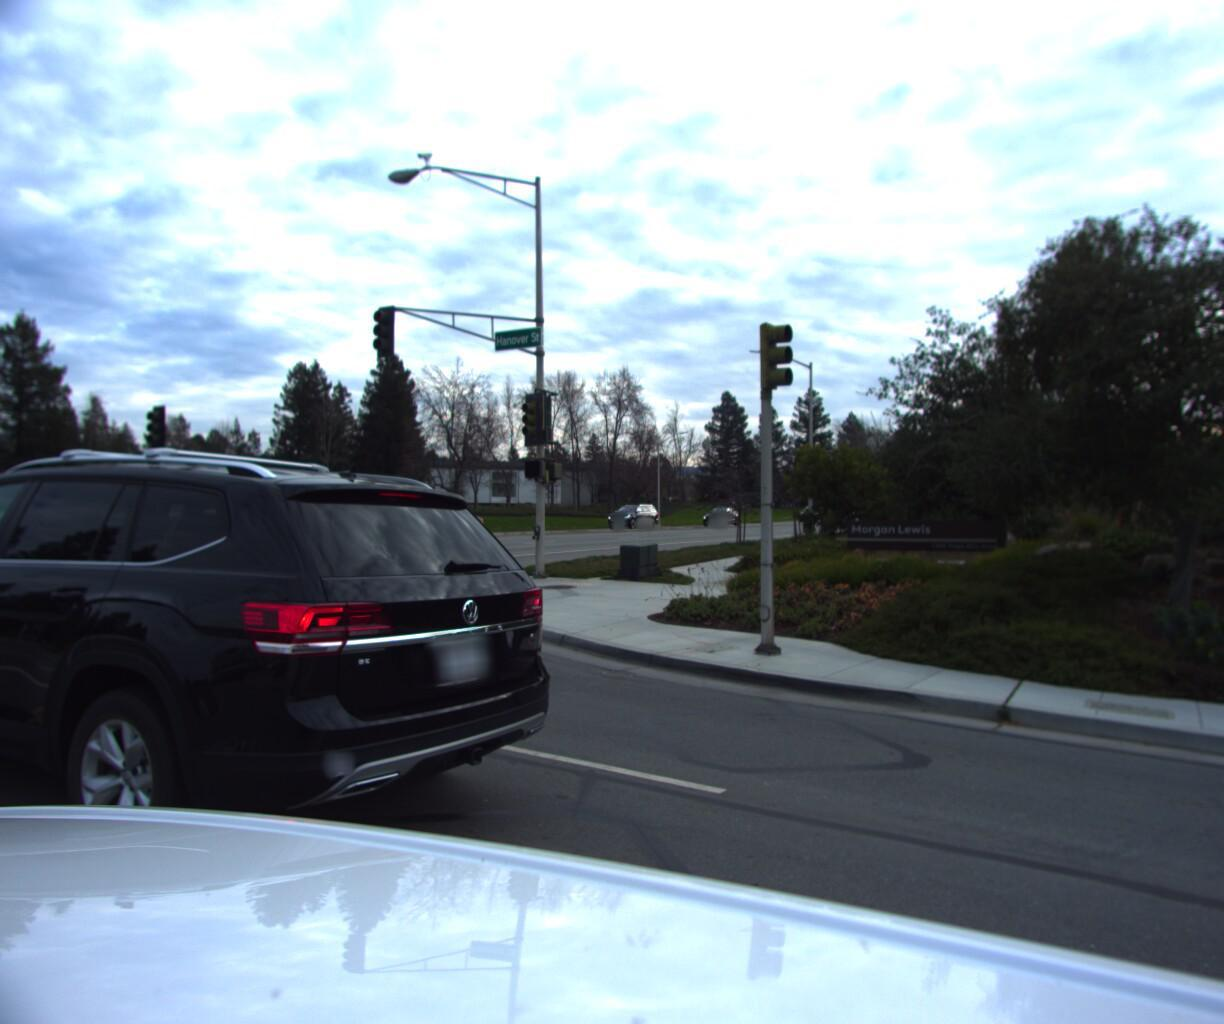car: (0, 422, 584, 929), (608, 504, 656, 529)
